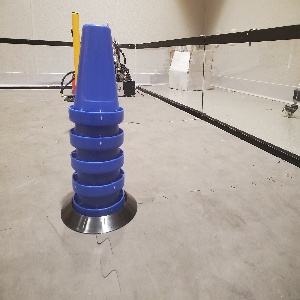Blue_5: (68, 23, 125, 213)
